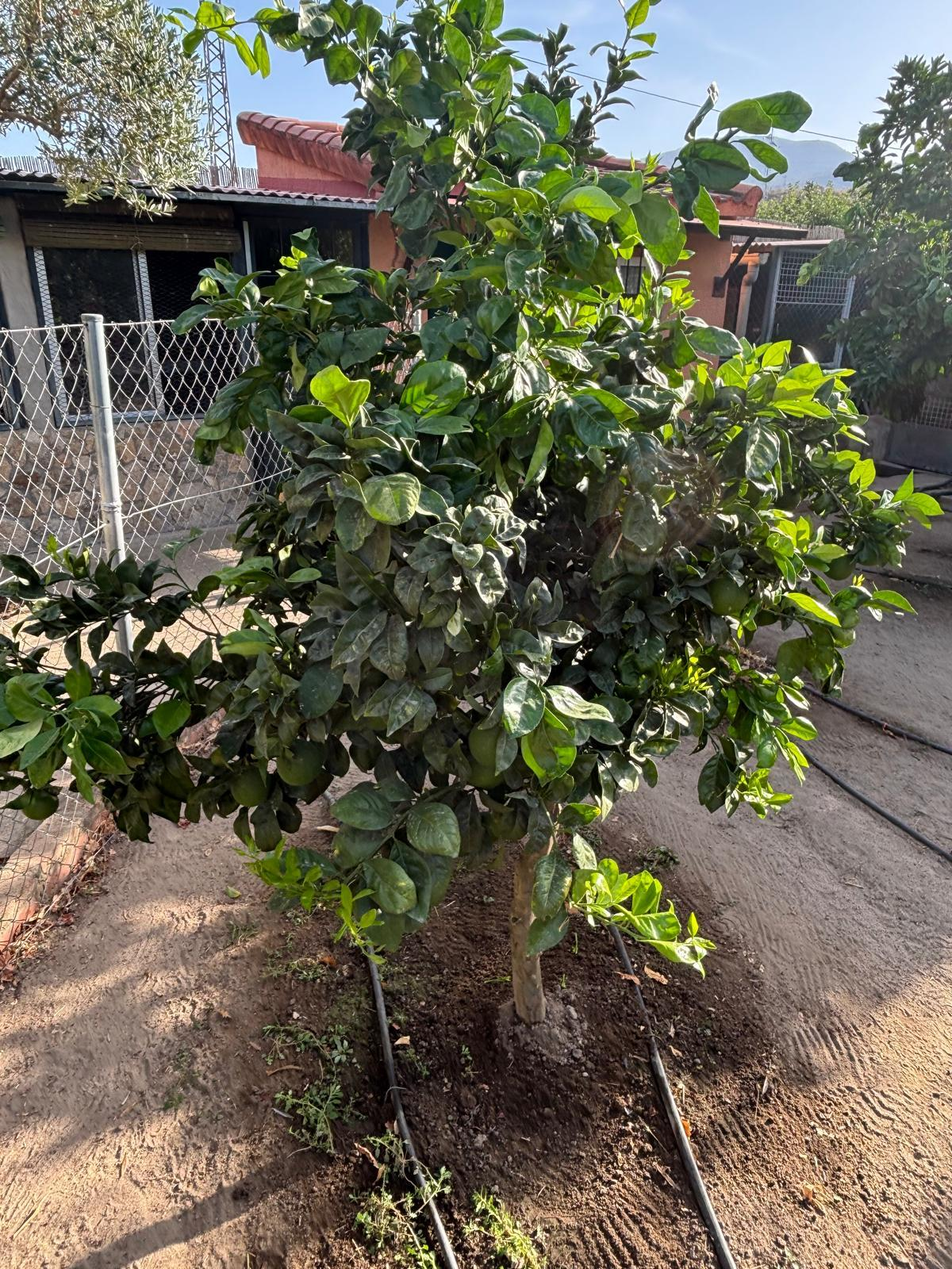naranjo: (225, 326, 865, 1117)
